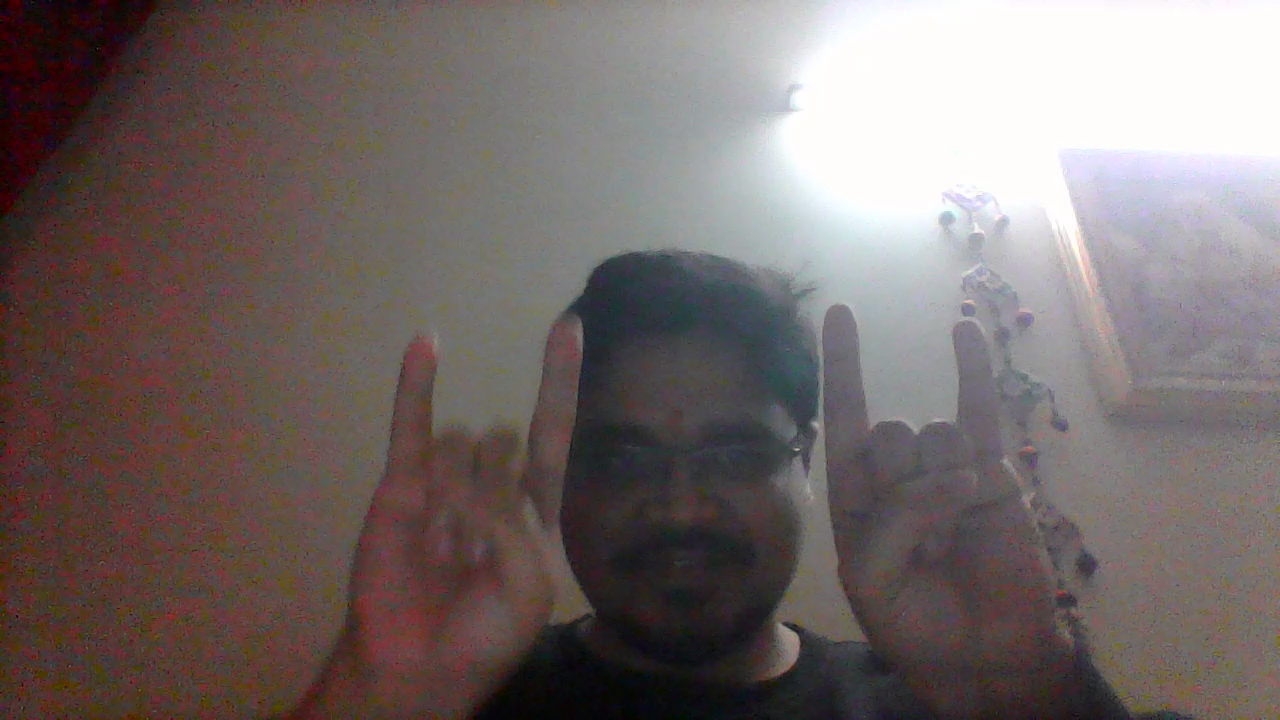ILoveYou: (821, 303, 1062, 720)
